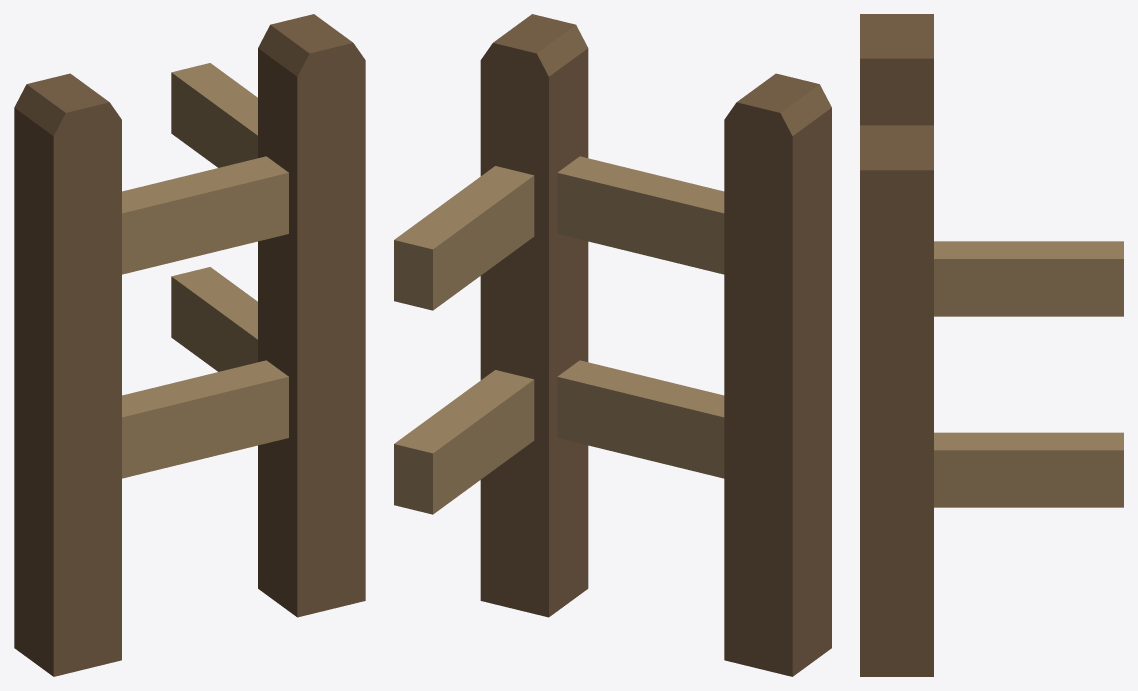
Rendered from TW_WOOD_CORNER_L90_A_LOD0.glb.
The picture shows the model from 3 angles, left to right: view 1: azimuth 30°, elevation 25°; view 2: azimuth 150°, elevation 25°; view 3: azimuth 270°, elevation 25°; orthographic projection. The views are drawn at different scales.
Visible parts, largest first — view 1: TW_WOOD_CORNER_L90_A_LOD0; view 2: TW_WOOD_CORNER_L90_A_LOD0; view 3: TW_WOOD_CORNER_L90_A_LOD0.
Boxes of the visible parts, x1,y1,x2,y2 form: TW_WOOD_CORNER_L90_A_LOD0: [14, 14, 365, 676]; TW_WOOD_CORNER_L90_A_LOD0: [394, 14, 831, 676]; TW_WOOD_CORNER_L90_A_LOD0: [860, 14, 1123, 676].
Bounding box in the file's own units: 0.64 × 1.1 × 0.5.
Materials: 1 (1 with a texture image).
